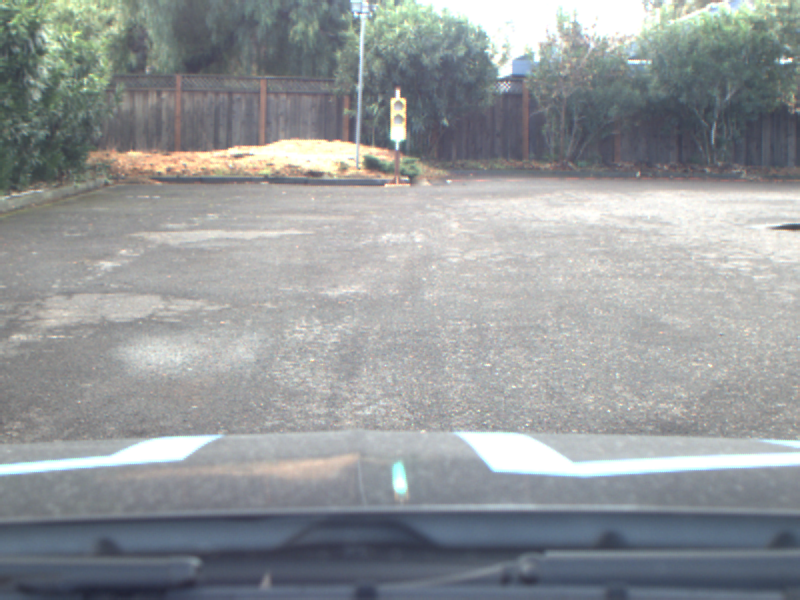Green: (388, 97, 407, 141)
